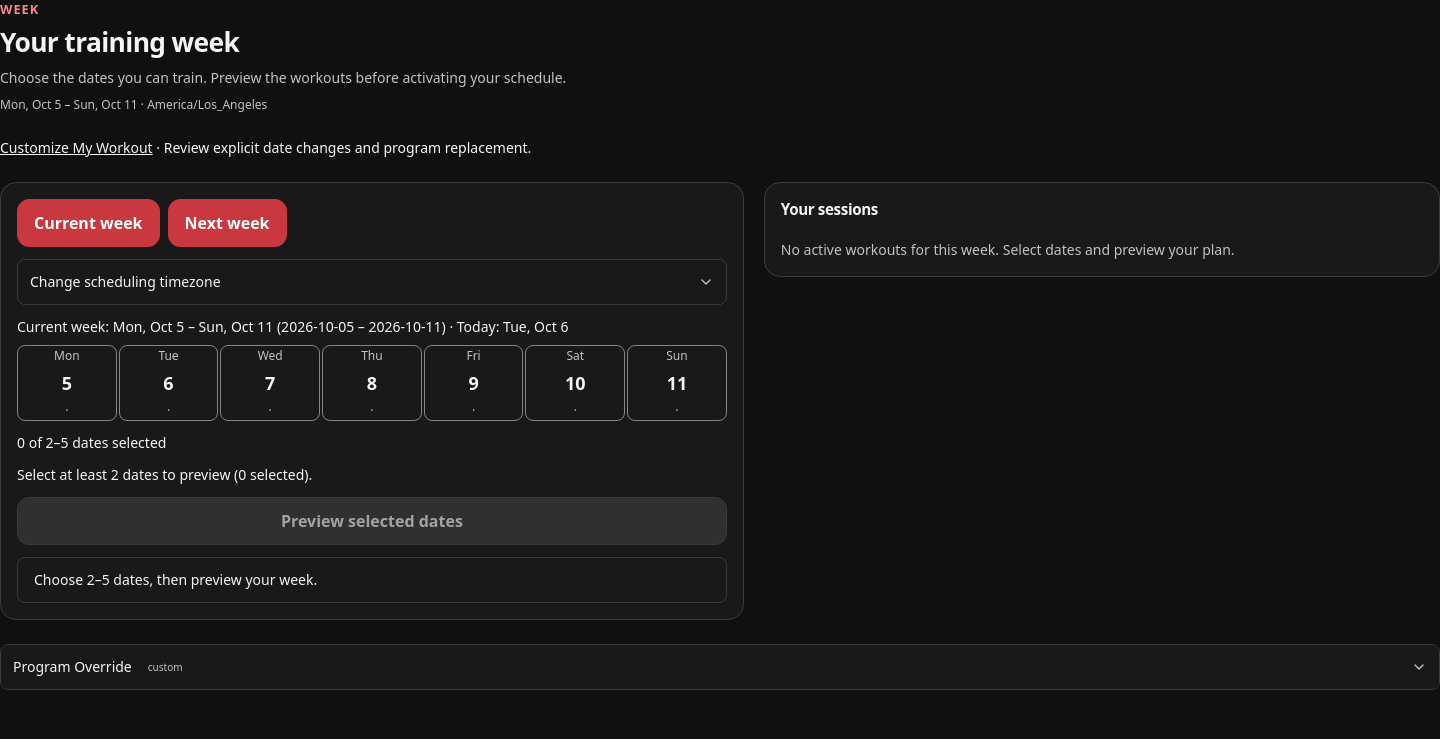
it: current local week offers accessible exact dates and preview does not activate
Click the checkbox named "Tue, Oct 6": (169, 383) [119,345,218,421]
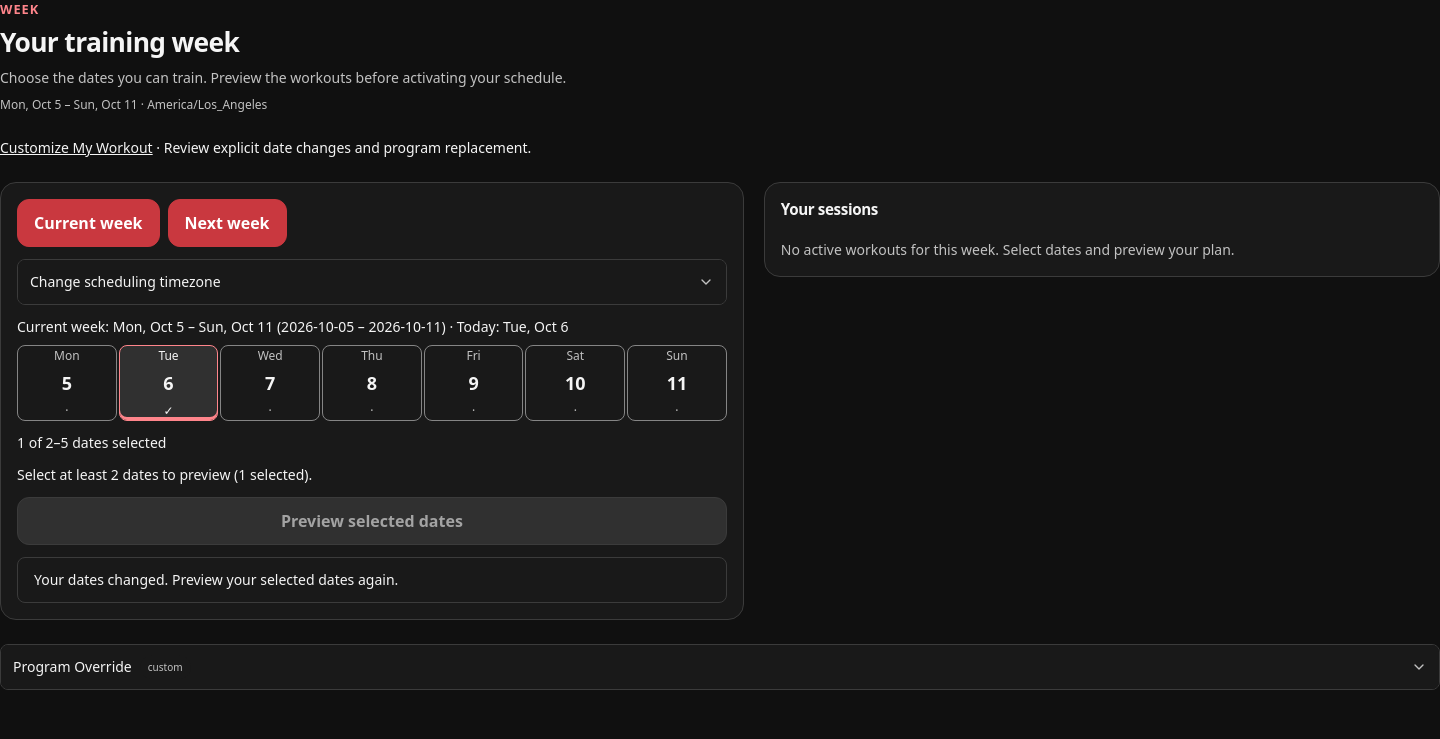
Click the checkbox named "Fri, Oct 9": (474, 383) [424,345,523,421]
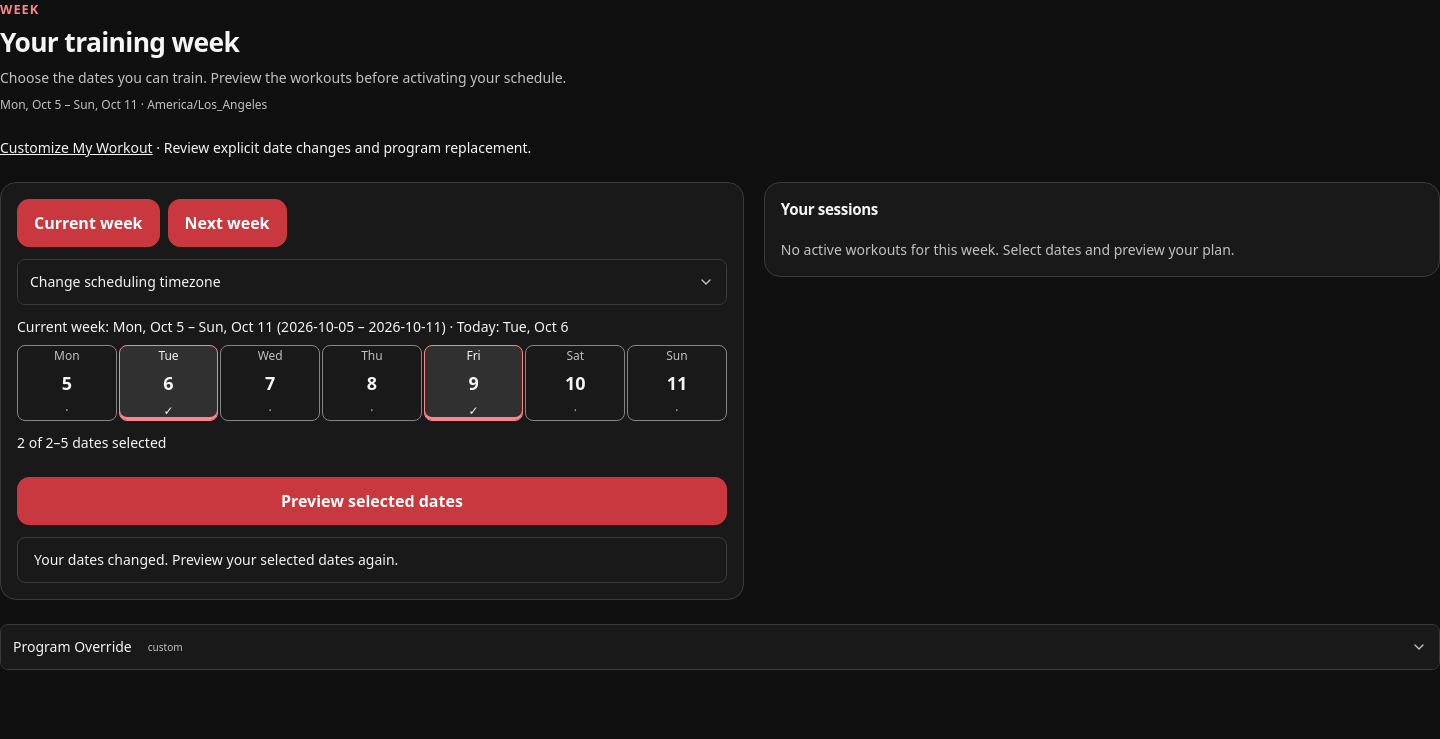
Click the checkbox named "Sun, Oct 11": (677, 383) [627,345,727,421]
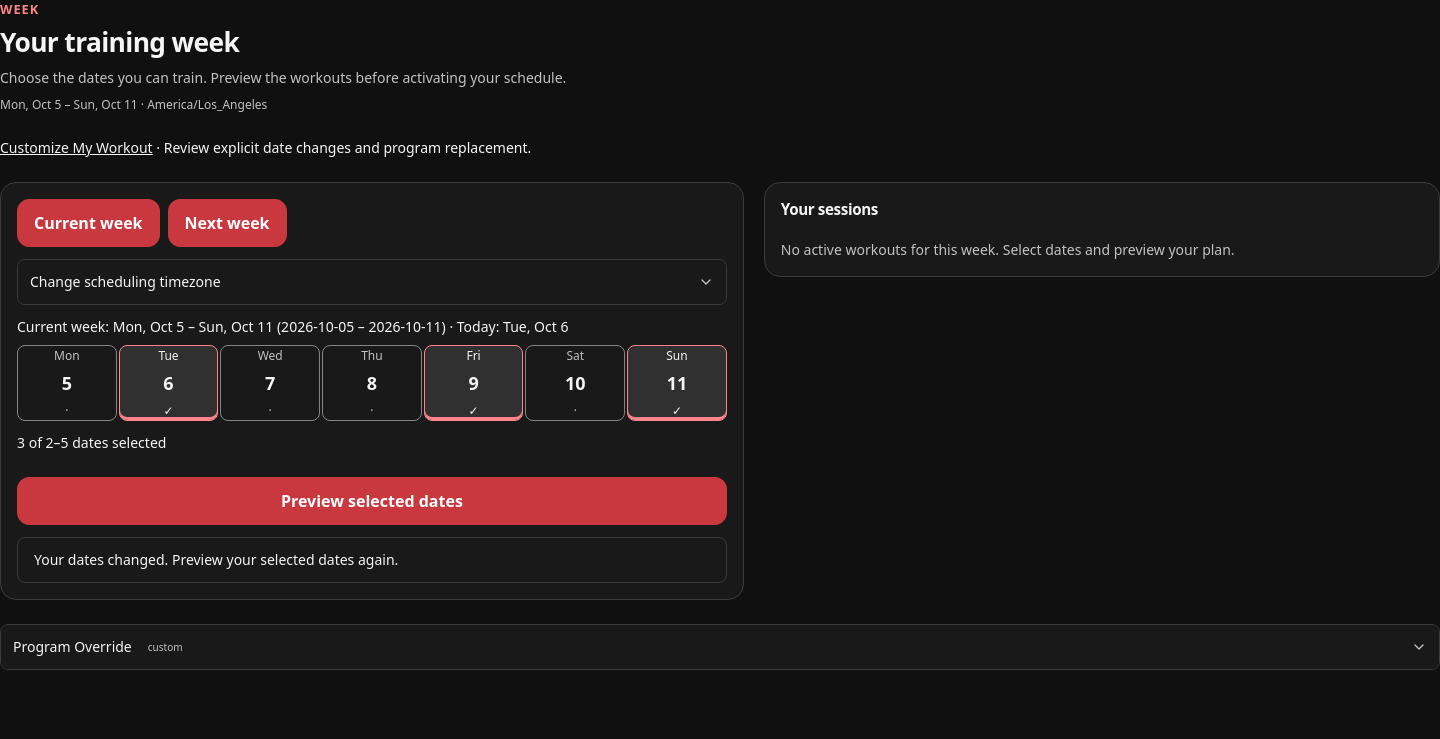
Click the button "Change scheduling timezone": (125, 282) [18,260,726,304]
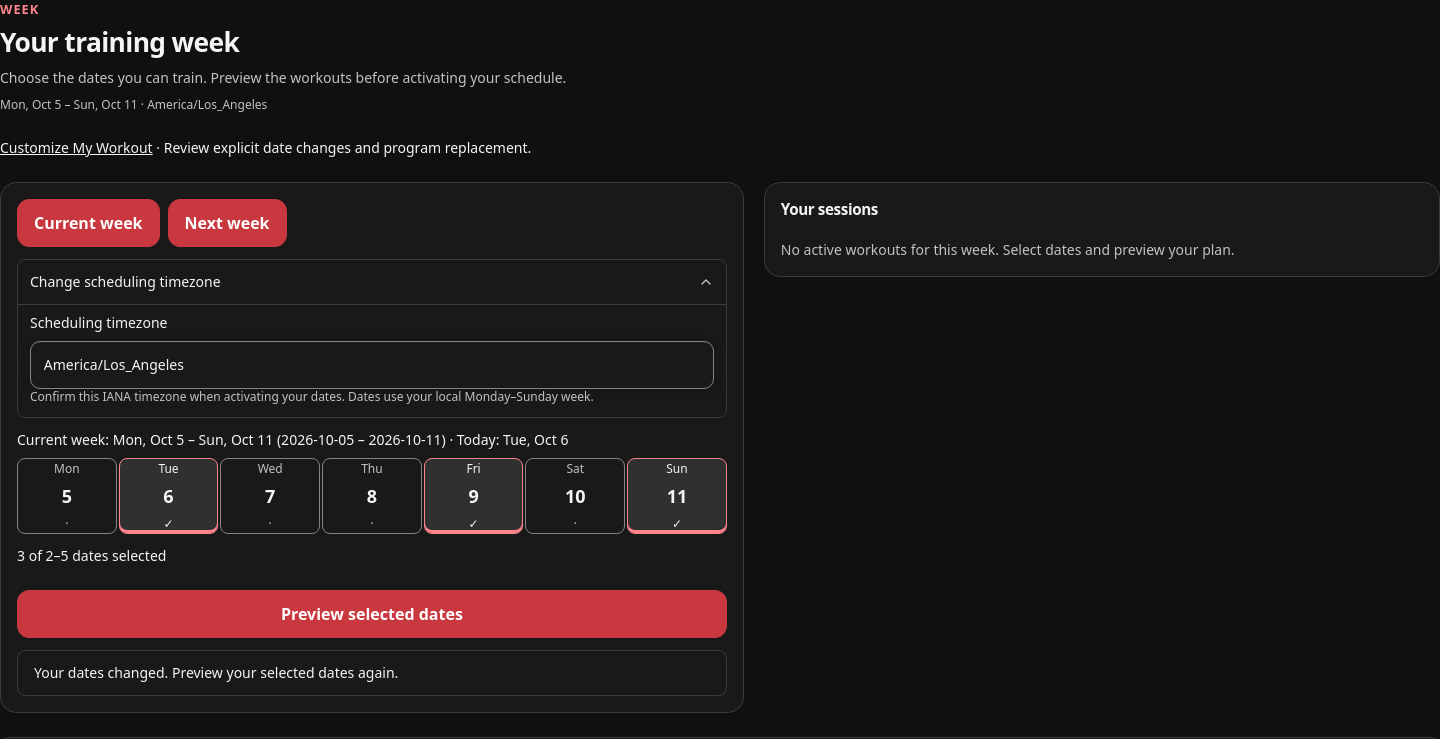
Expected: the button "Activate selected dates" is not shown
Expected: the text "3 of 2–5 dates selected" is shown, [17,546,166,565]
Expected: the field labelled "Scheduling timezone" holds "America/Los_Angeles", [30,341,714,389]
Click the button "Preview selected dates": (372, 614) [17,590,727,638]
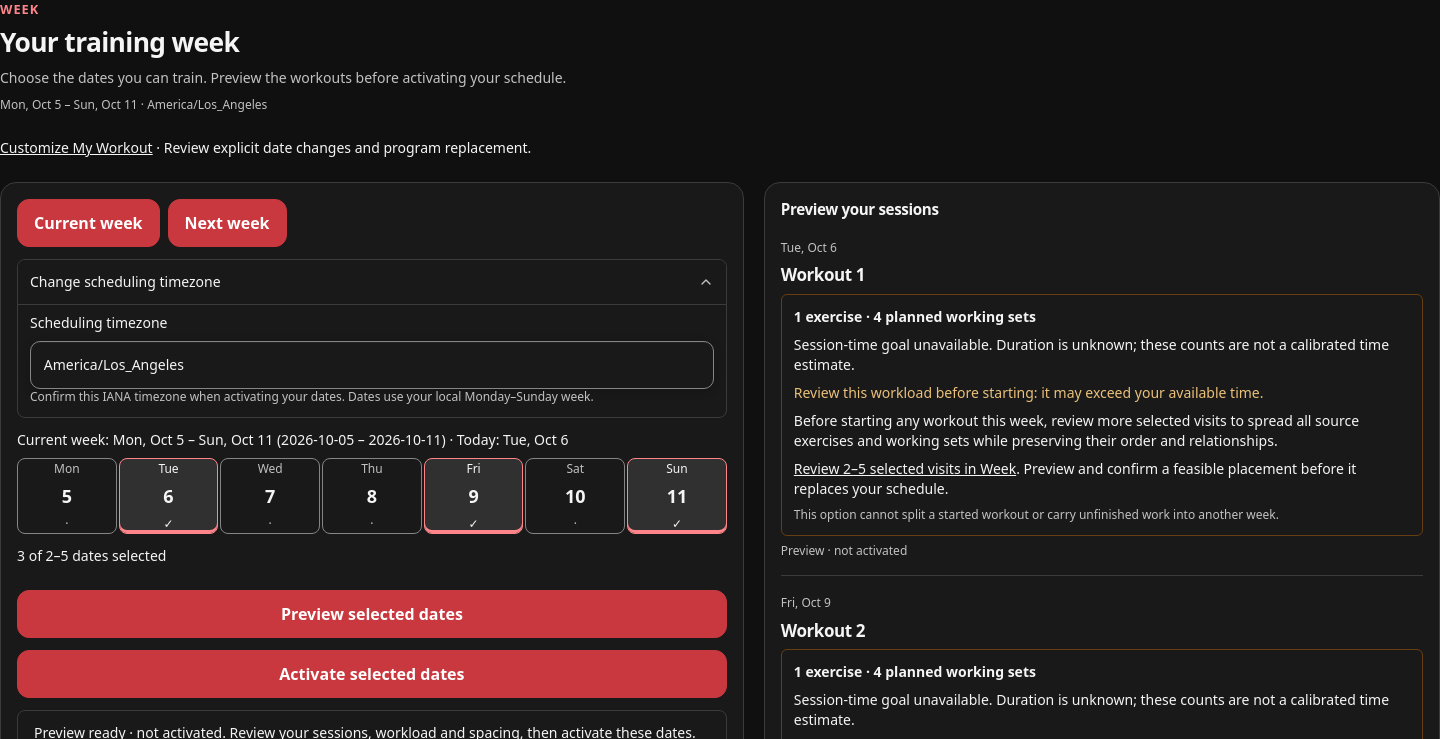
Expected: the button "Activate selected dates" is shown, [17,650,727,698]
Click the checkbox named "Mon, Oct 5": (67, 496) [17,458,117,534]
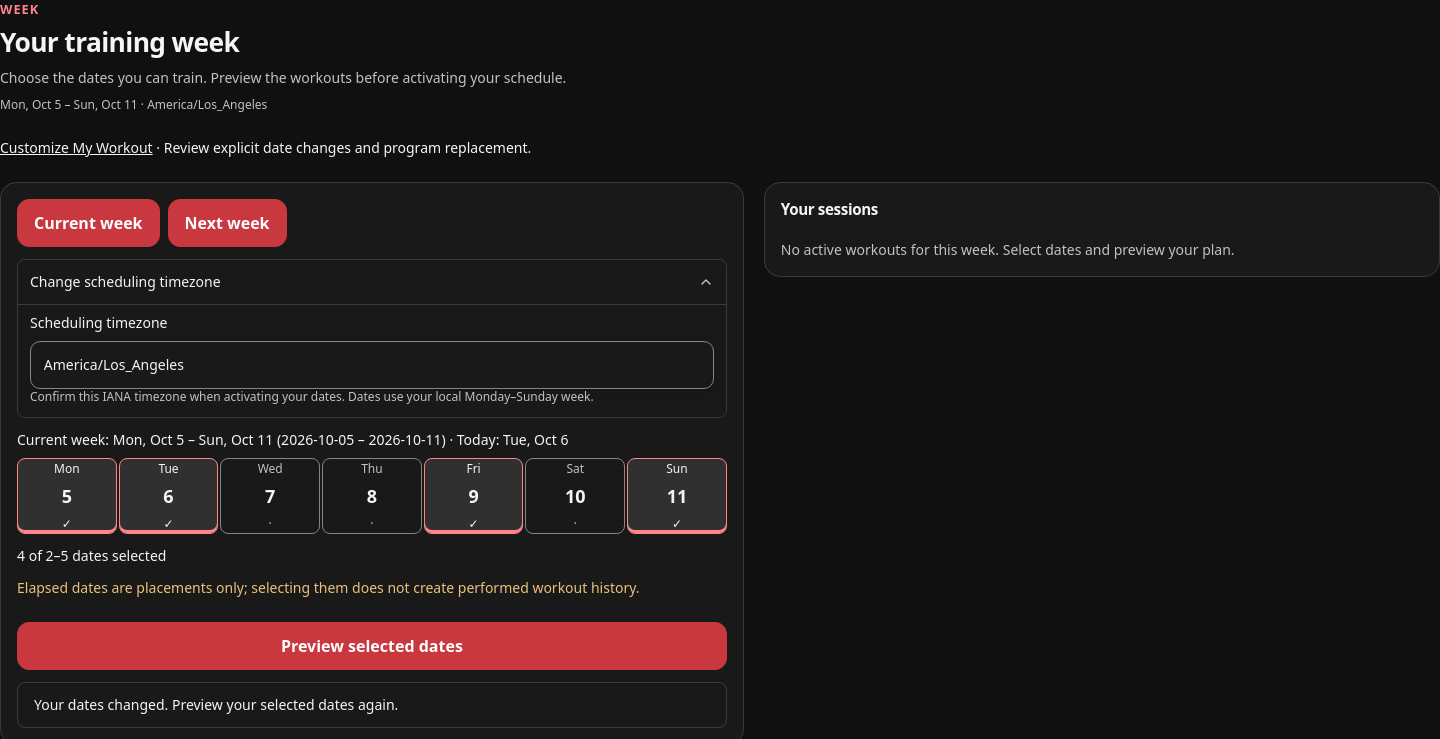
Expected: the button "Activate selected dates" is gone
